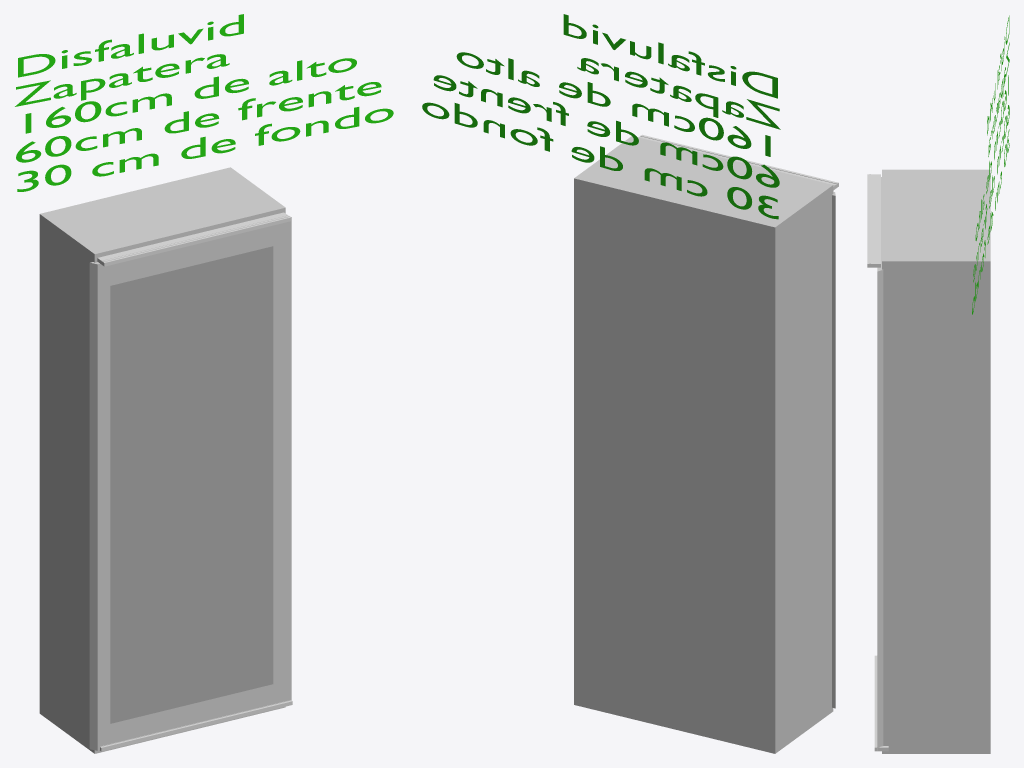
File: zapatera5fin.glb
The picture shows the model from 3 angles, left to right: view 1: azimuth 30°, elevation 25°; view 2: azimuth 150°, elevation 25°; view 3: azimuth 270°, elevation 25°; orthographic projection. The views are drawn at different scales.
Parts seen in each view (by area): view 1: Cube.003, Cube, Text, Cube.002, Cube.001; view 2: Cube, Text, Cube.003, Cube.002; view 3: Cube, Cube.003, Text, Cube.002, Cube.001.
Part boxes in pixels (bbox=[...]): Cube.003: bbox=[89, 216, 291, 750]; Cube: bbox=[39, 167, 285, 753]; Text: bbox=[15, 14, 393, 191]; Cube.002: bbox=[97, 212, 290, 266]; Cube.001: bbox=[100, 700, 292, 751]; Cube: bbox=[574, 136, 833, 753]; Text: bbox=[422, 14, 780, 219]; Cube.003: bbox=[832, 191, 835, 708]; Cube.002: bbox=[638, 134, 838, 190]; Cube: bbox=[882, 169, 990, 753]; Cube.003: bbox=[877, 177, 883, 750]; Text: bbox=[972, 15, 1009, 314]; Cube.002: bbox=[867, 174, 880, 267]; Cube.001: bbox=[874, 655, 888, 751].
Bounding box in the file's own units: 0.754 × 1.3 × 0.2624.
